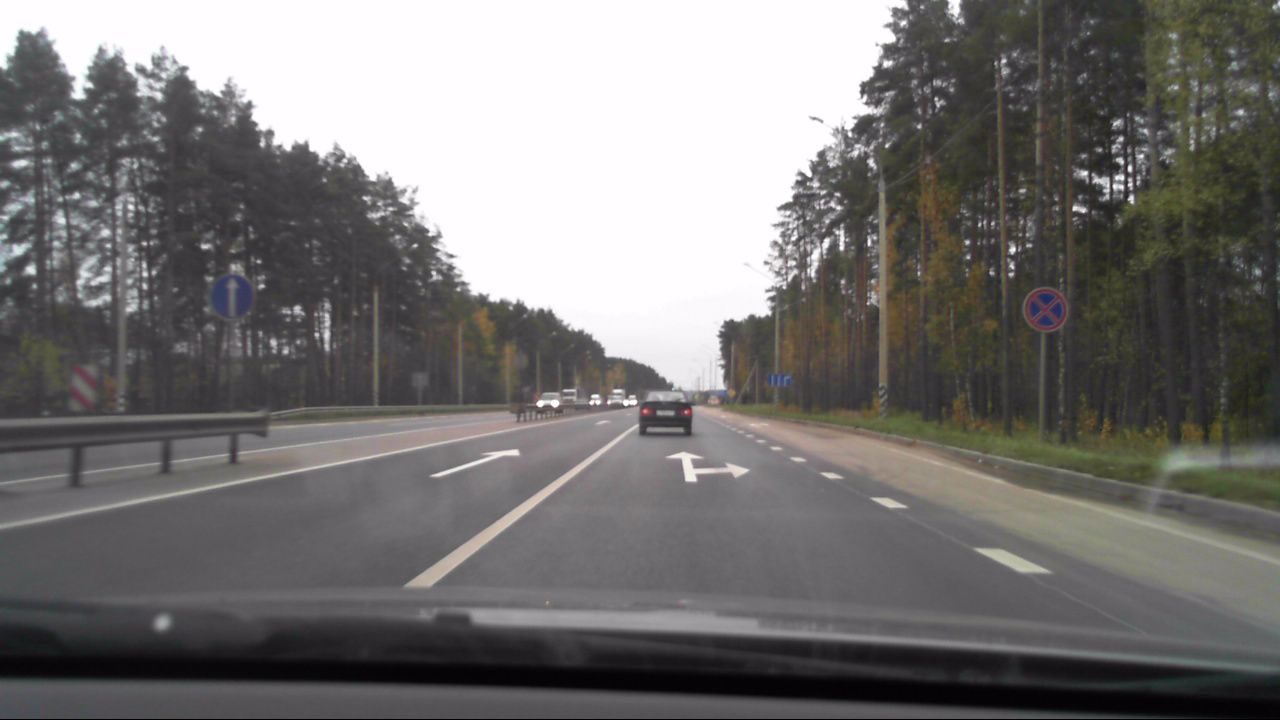No Parking: (1021, 285, 1070, 334)
